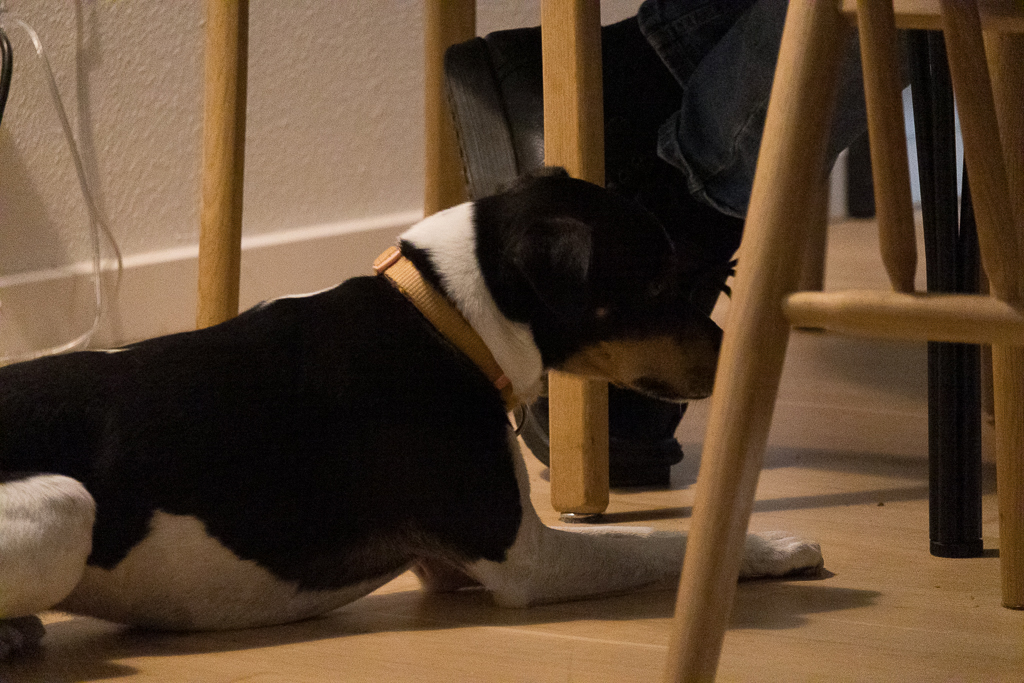Dog: (0, 154, 839, 660)
Humanoid: (421, 0, 906, 521)
